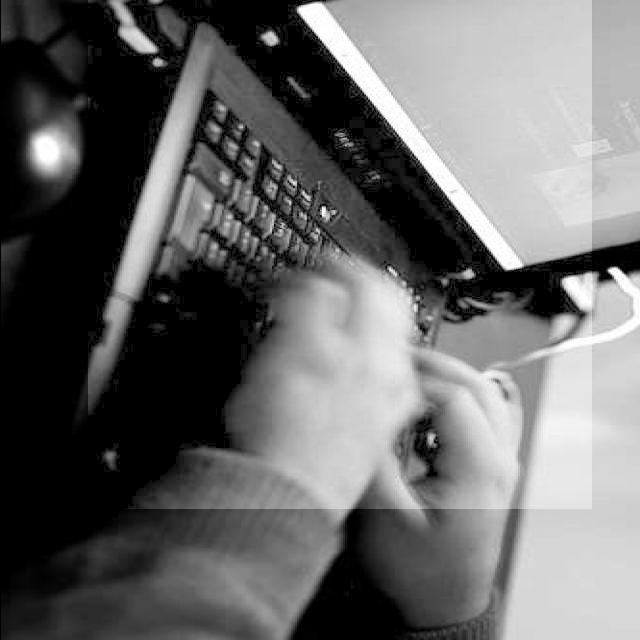-keyboard-: (88, 0, 592, 509)
